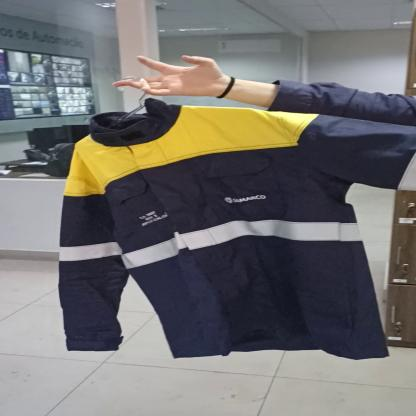C_eletrica: (46, 105, 416, 361)
